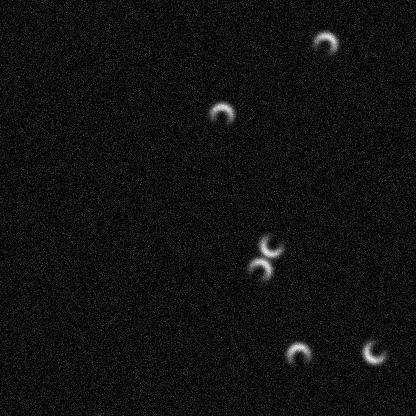Janus: (206, 100, 236, 130), (360, 336, 390, 366), (309, 29, 339, 59), (283, 340, 313, 370), (256, 229, 286, 259), (244, 255, 274, 285)
